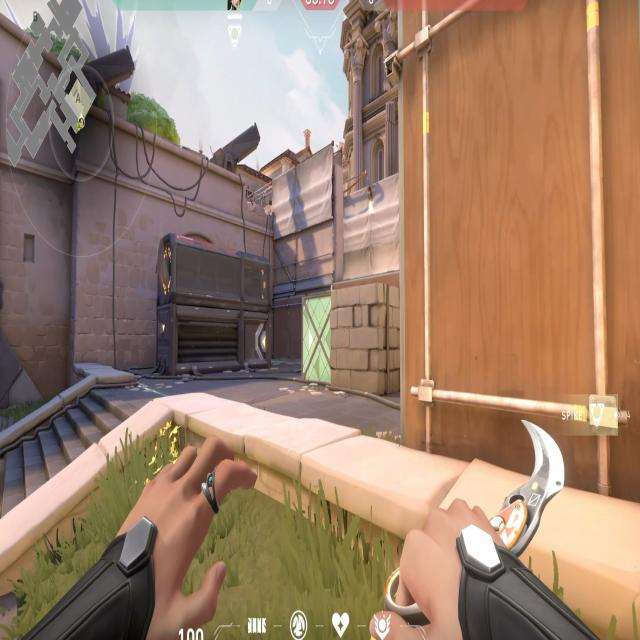A_Heaven_Wall: (264, 144, 346, 278)
A_Site_Box: (297, 280, 403, 409)
